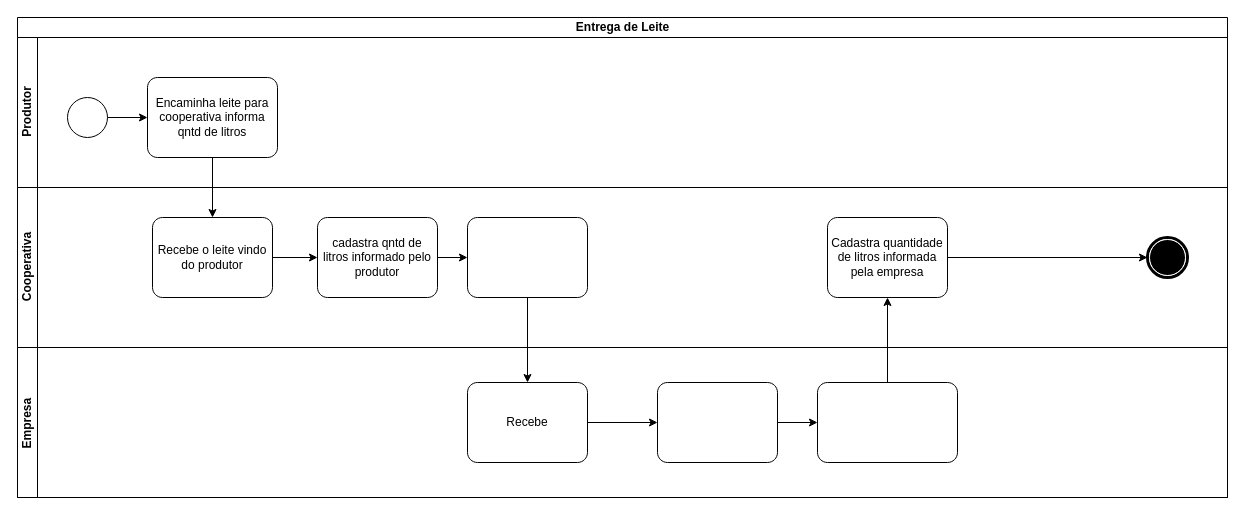
Some shapes in this 1245 by 515 pixel diagram are drawn without their labels. Each missing label, with the centre of its shape:
Calcula quantidade de leite recebido: the point at 717,422
Cooperativa encaminha o leite para empresa: the point at 527,257
FIM: the point at 1167,257
Informa a cooperativa quantos litros recebeu: the point at 887,422
INICIO: the point at 87,117
